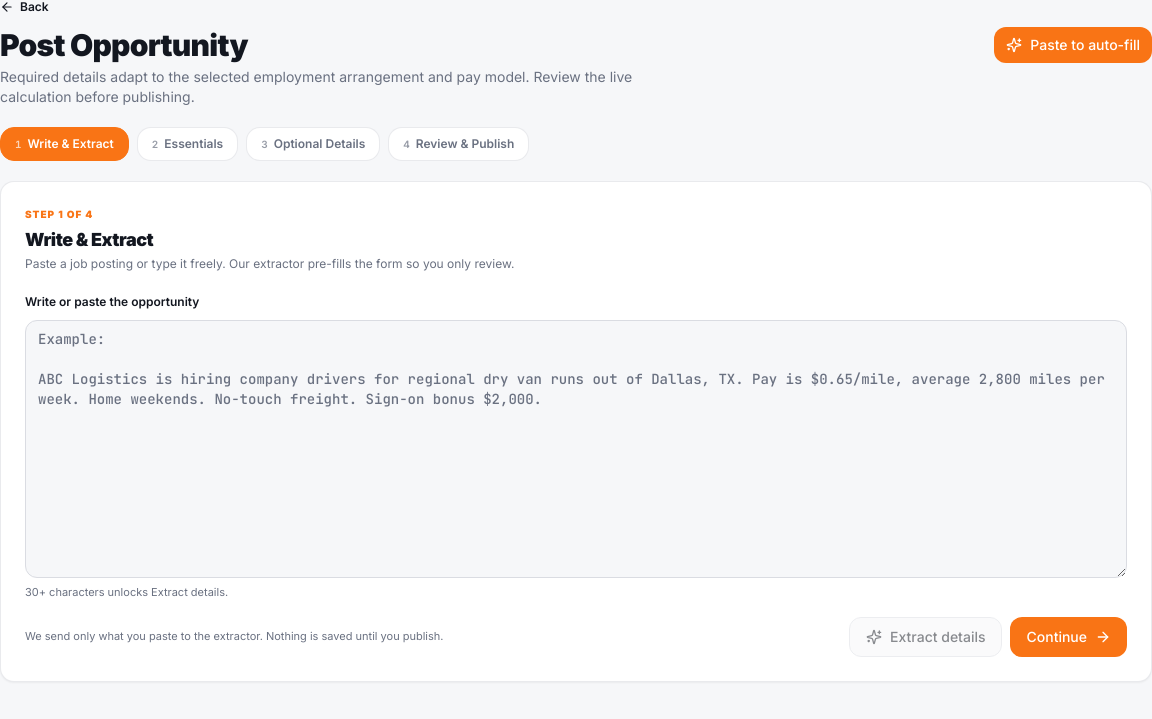
CF-1C-B 10) optional structured controls in the authoring form › 10a) renders the structured criteria subsection with all three controls
The width and height of the screenshot is (1152, 719).
Click the tab "3Optional Details" at [313, 144], box x1=246 y1=127 x2=380 y2=161
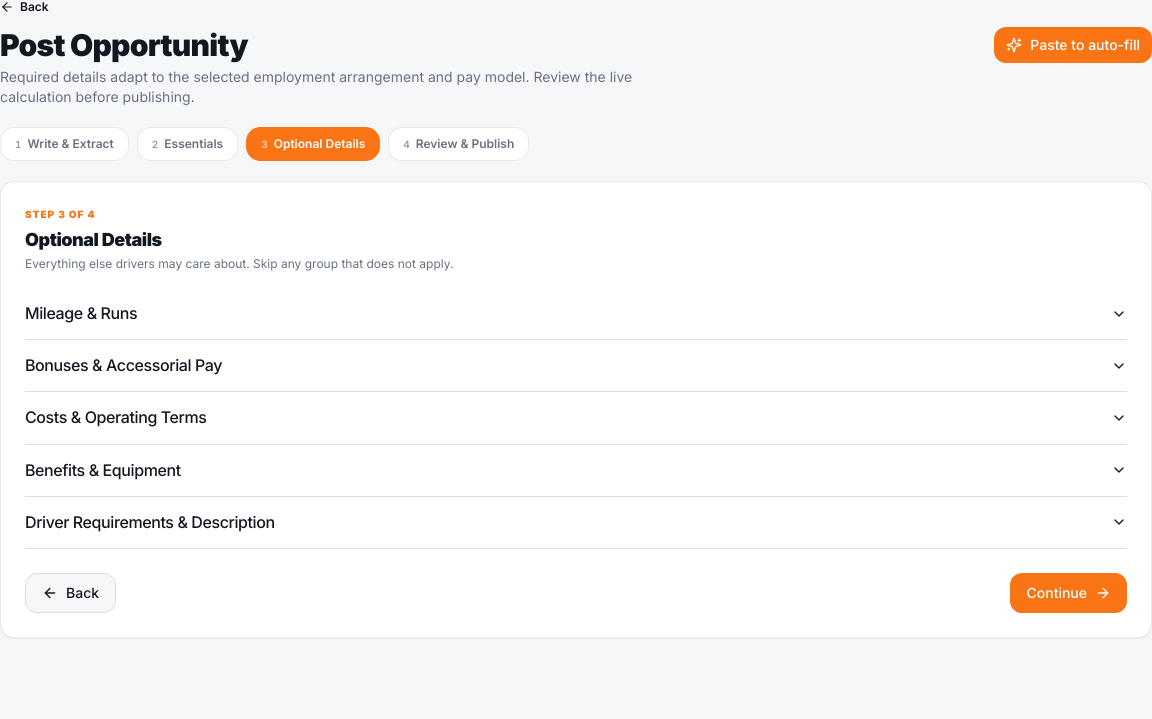
Click the button "Driver Requirements & Description" at [150, 522], box x1=25 y1=497 x2=1127 y2=548
(page scrolled)
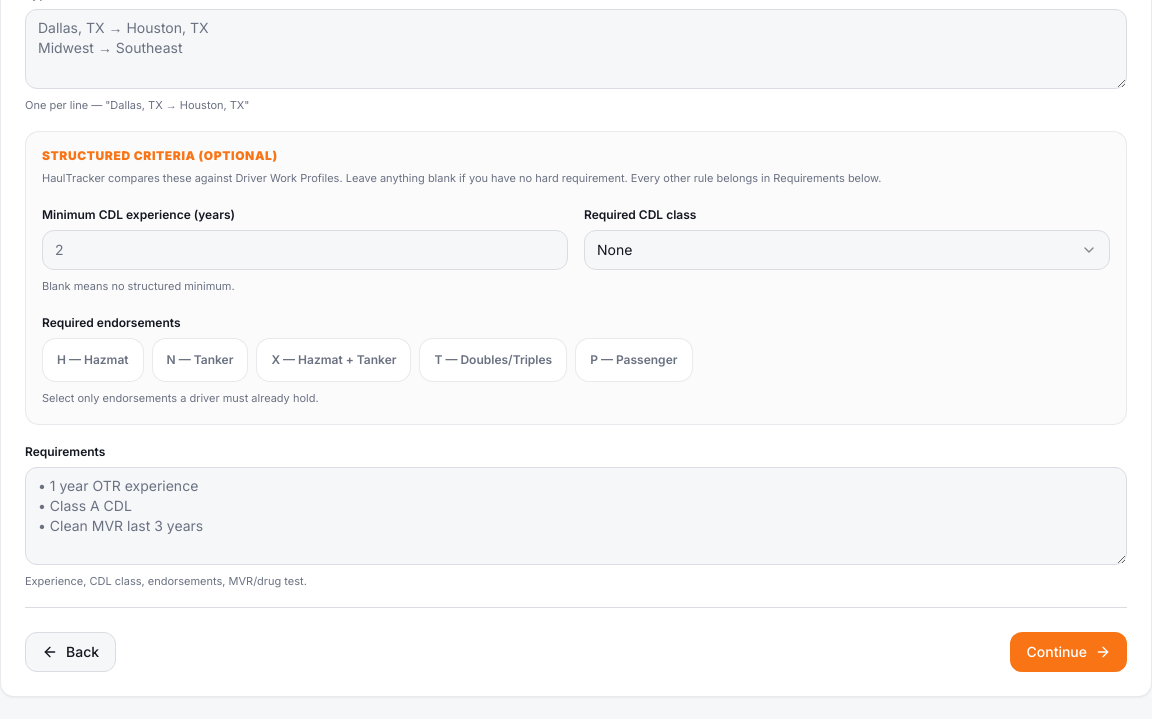
Result: the number field named "Minimum CDL experience (years)" is shown at x1=42 y1=230 x2=568 y2=270
Result: the dropdown named "Required CDL class" is shown at x1=584 y1=230 x2=1110 y2=270
Result: the element with test id "criteria-endorsements" is shown at x1=42 y1=338 x2=692 y2=382
